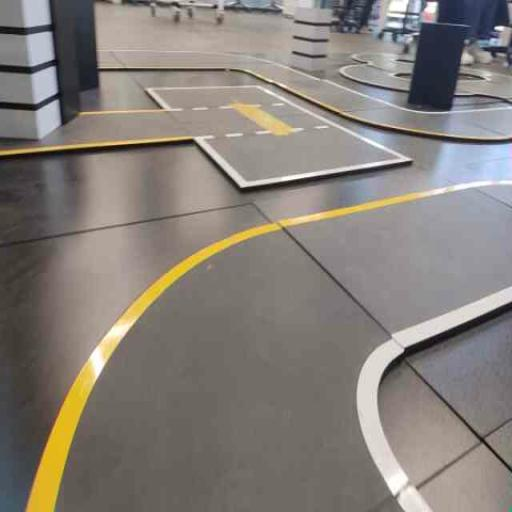right: (25, 201, 413, 511)
